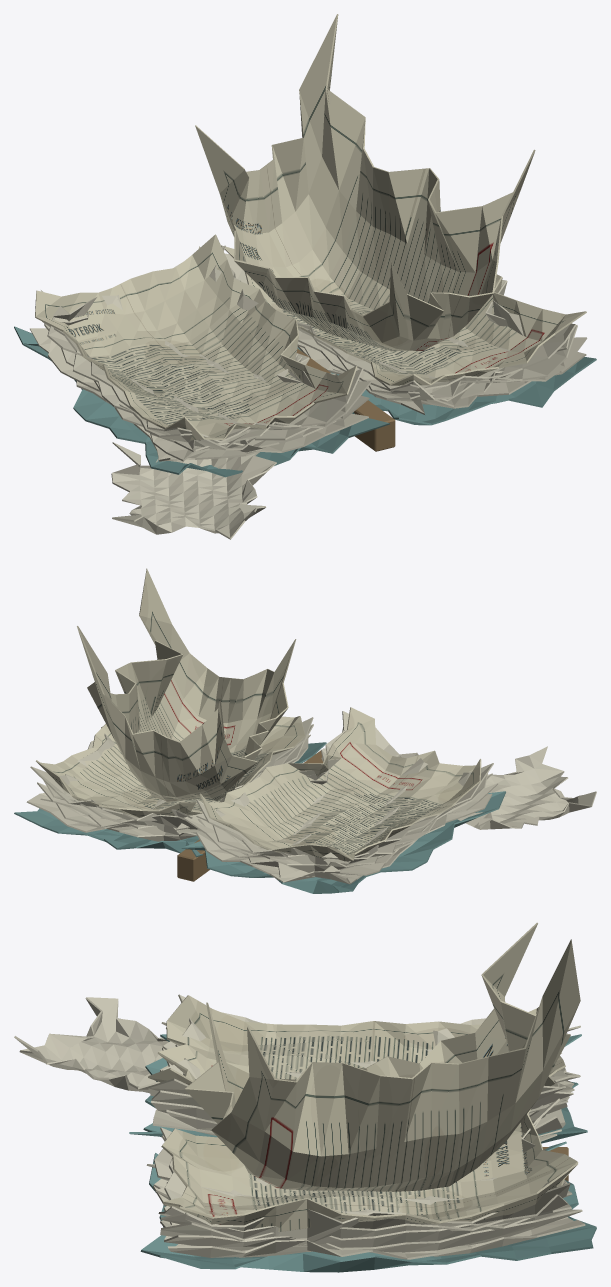
File: DS_Clue_Notebook_Damaged_V02.fbx
3 renders of one model, top to bottom at view 1: azimuth 30°, elevation 25°; view 2: azimuth 150°, elevation 25°; view 3: azimuth 270°, elevation 25°, orthographic. The views are drawn at different scales.
Parts seen in each view (by area): view 1: DS_Clue_Notebook_Damaged_V02; view 2: DS_Clue_Notebook_Damaged_V02; view 3: DS_Clue_Notebook_Damaged_V02.
Boxes of the visible parts, <box> form: DS_Clue_Notebook_Damaged_V02: <box>14,14,596,539</box>; DS_Clue_Notebook_Damaged_V02: <box>14,568,596,893</box>; DS_Clue_Notebook_Damaged_V02: <box>14,922,596,1272</box>.
Size of the model in its own units: 84.41 by 44.73 by 73.34.
4 materials, 1 textured.
